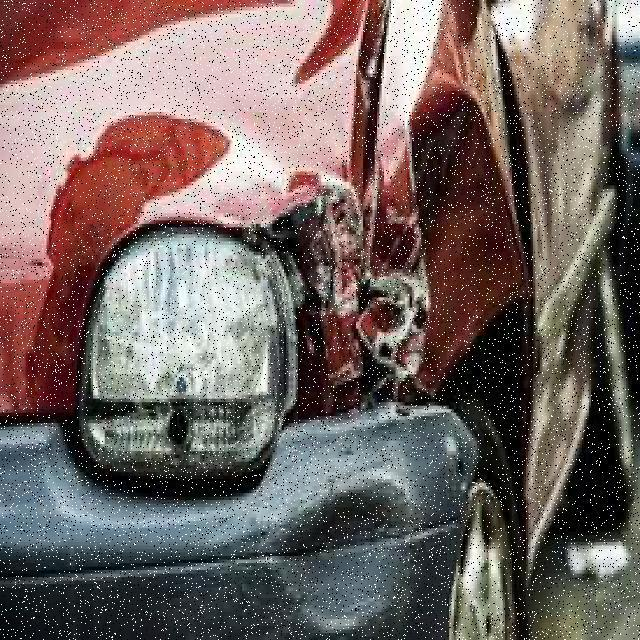fender-dent: (338, 0, 528, 525)
front-bumper-dent: (0, 398, 501, 637)
